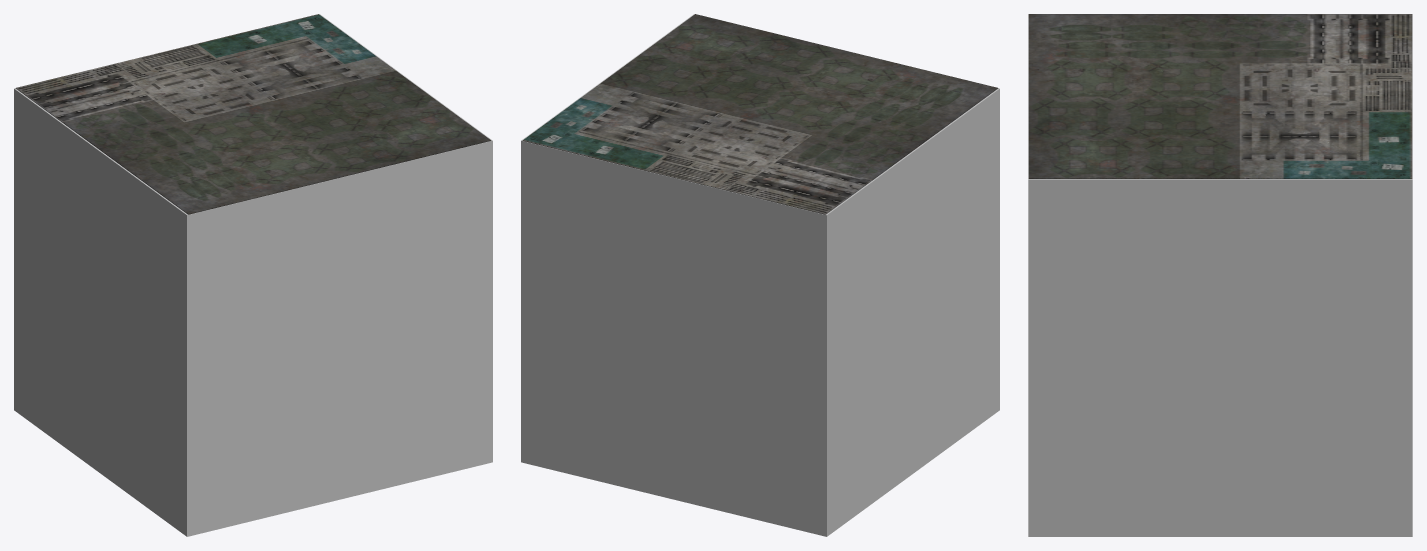
File: SciFi_cardboard_box.DAE
3 renders of one model, left to right at view 1: azimuth 30°, elevation 25°; view 2: azimuth 150°, elevation 25°; view 3: azimuth 270°, elevation 25°, orthographic. The views are drawn at different scales.
Visible parts, largest first — view 1: bounds, colbox-01; view 2: bounds, colbox-01; view 3: bounds, colbox-01.
Part boxes in pixels (<box>): bounds: <box>14,14,492,536</box>; colbox-01: <box>15,14,491,214</box>; bounds: <box>521,14,999,536</box>; colbox-01: <box>522,14,998,214</box>; bounds: <box>1028,14,1412,536</box>; colbox-01: <box>1028,14,1412,178</box>.
Size of the model in its own units: 59.73 by 58.55 by 60.15.
